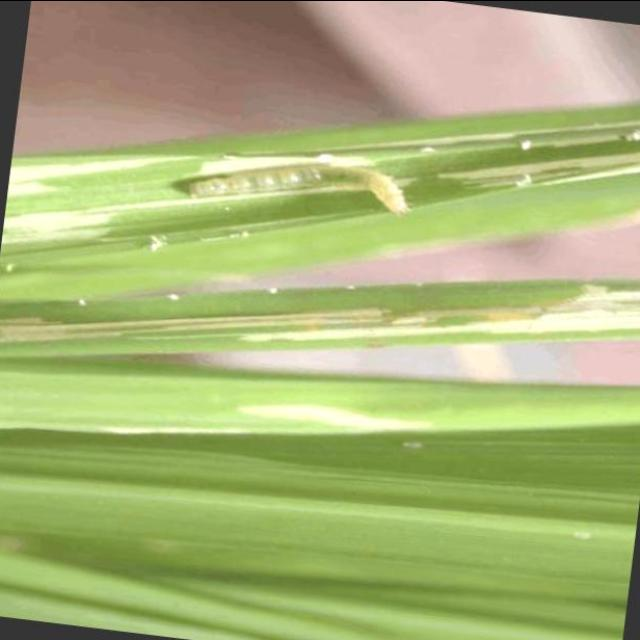leaf folder: (184, 162, 409, 213)
